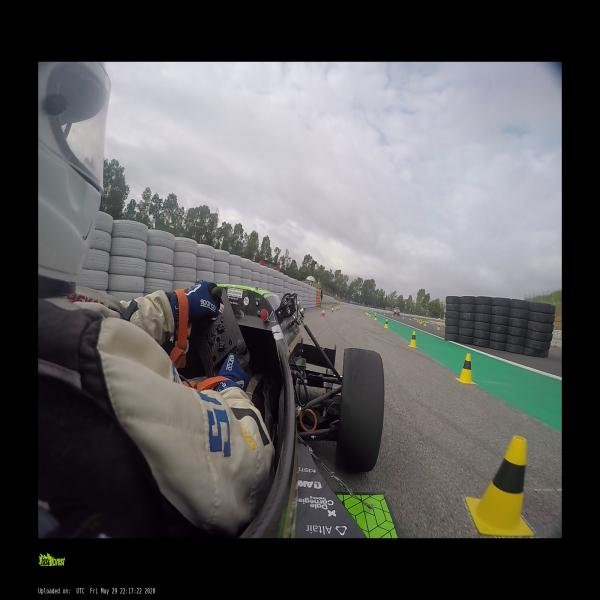orange_cone: (553, 341, 558, 350), (320, 309, 325, 317), (330, 307, 334, 313), (336, 306, 338, 311), (343, 305, 345, 309), (339, 305, 340, 310)
yellow_cone: (465, 436, 535, 537), (456, 353, 476, 384), (408, 331, 418, 348), (384, 320, 388, 328), (436, 324, 440, 330), (374, 314, 377, 320), (368, 311, 371, 316), (366, 310, 369, 315), (424, 321, 426, 327), (419, 320, 422, 324), (366, 310, 368, 314), (416, 319, 418, 322), (410, 317, 412, 320), (403, 316, 404, 318)
